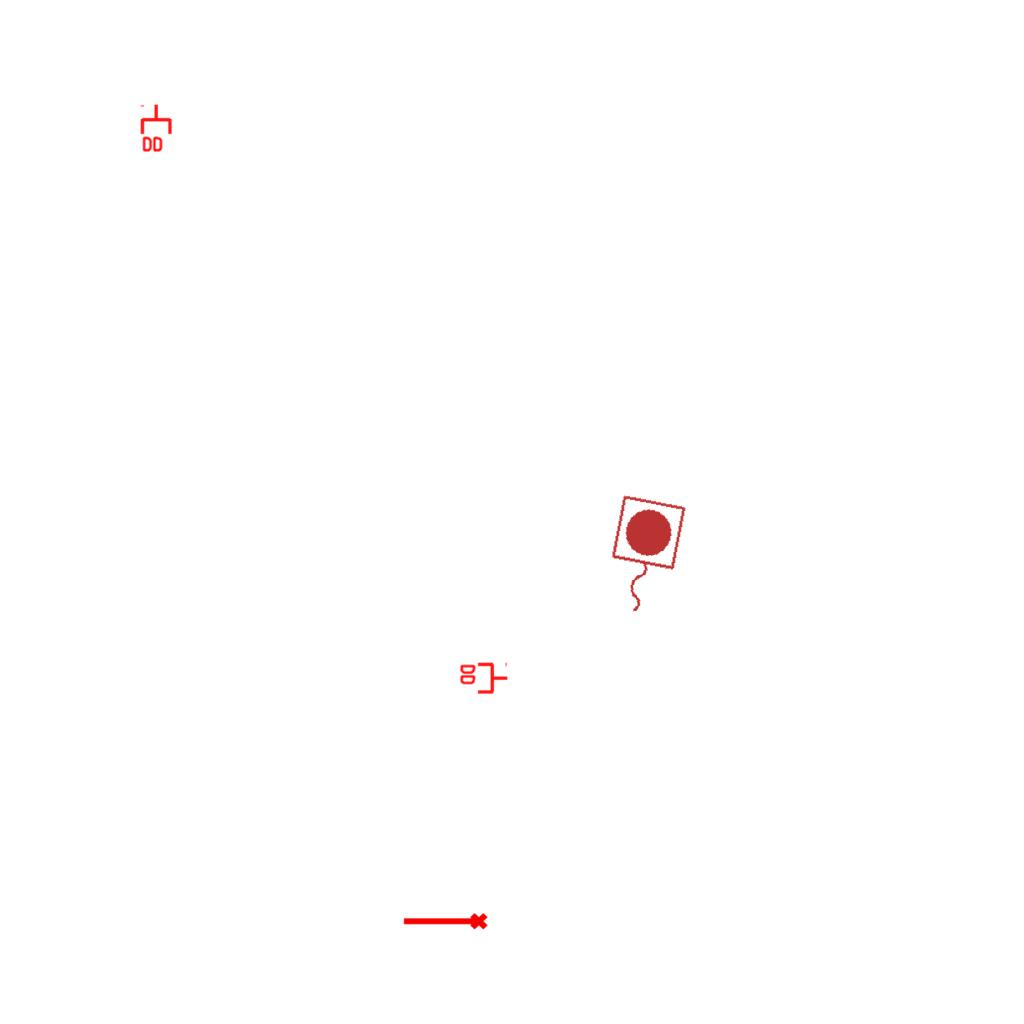ASR_Ansaugoeffnung: (401, 911, 489, 934)
Datenanschluss_zweifach: (458, 662, 509, 696), (140, 103, 174, 154)
Zugtaster: (596, 490, 690, 624)
